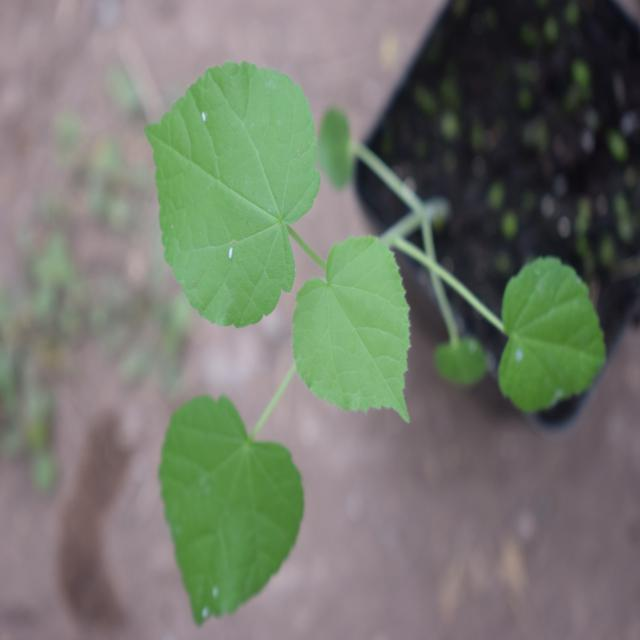abutilon theophrasti: (125, 52, 566, 618)
